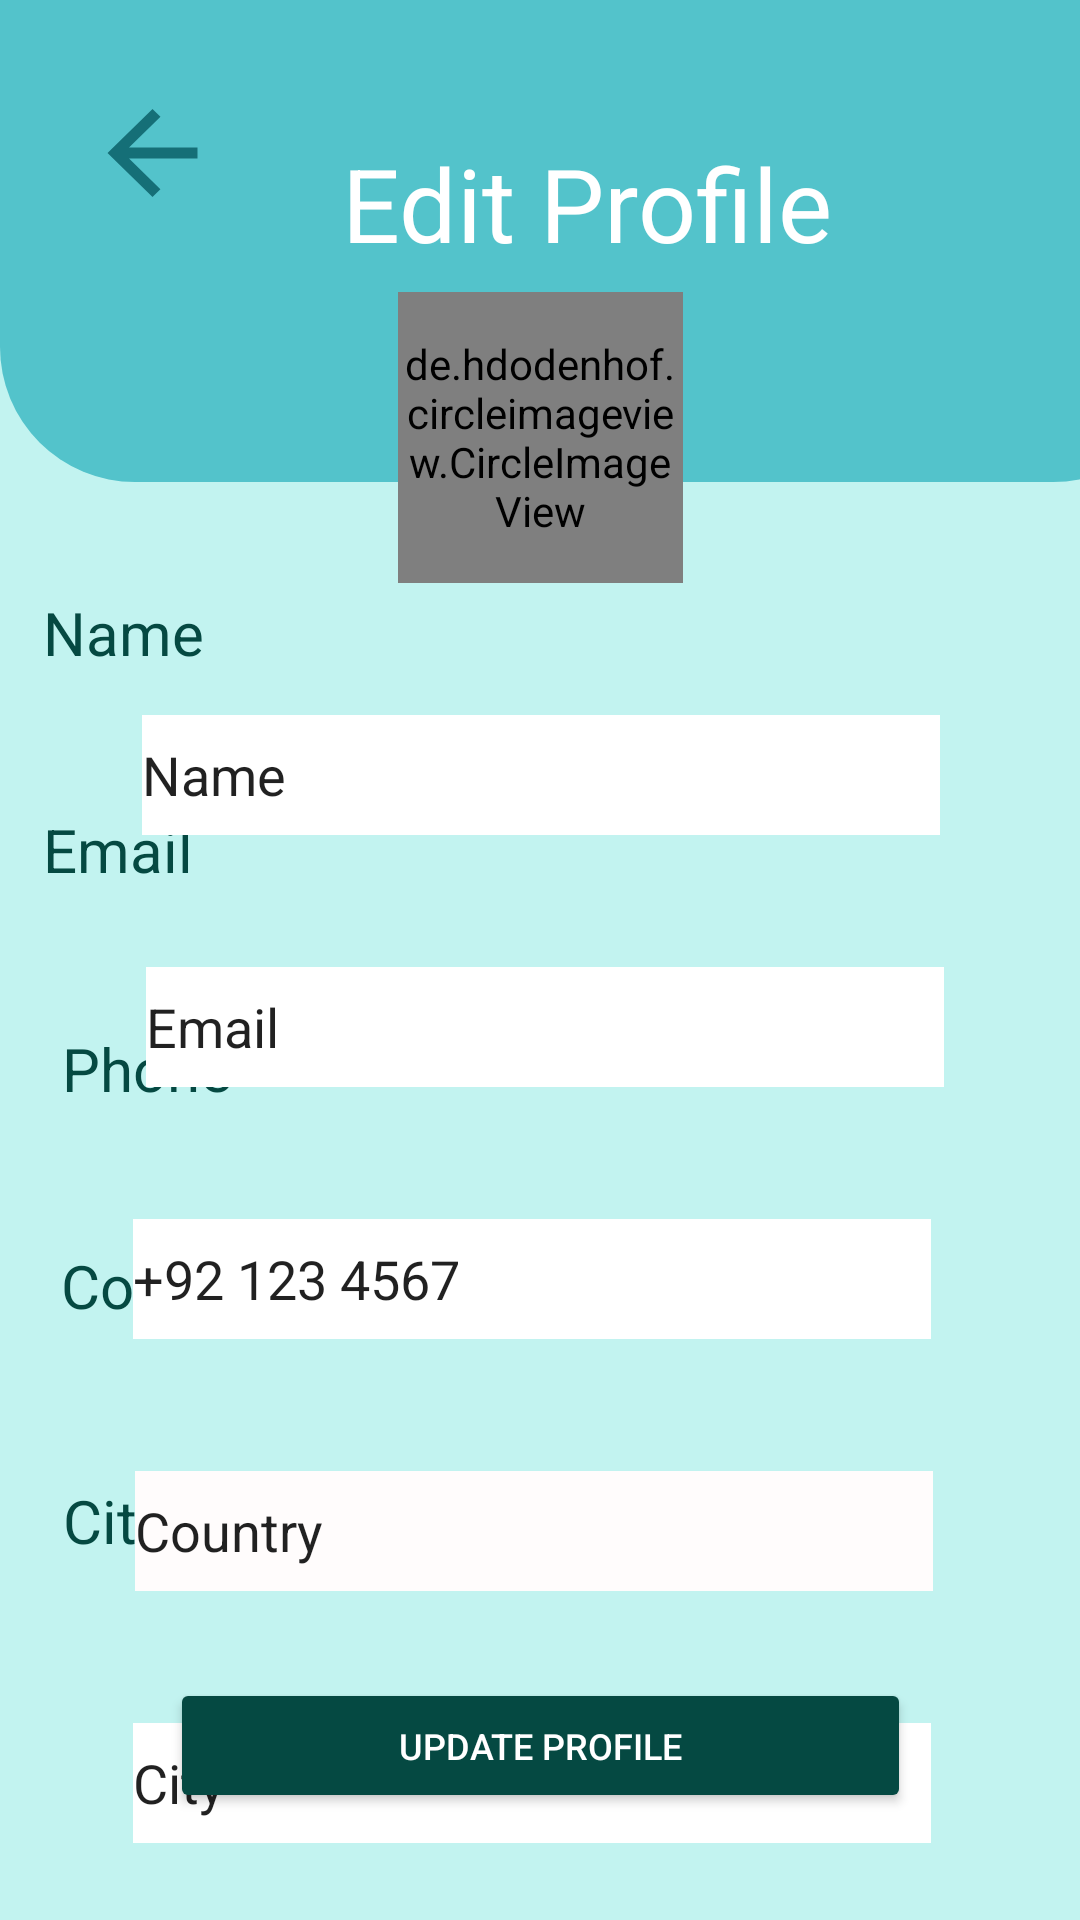

Locate icon controls on the screen. Image size 1080 x 1920, boxes as rect(x1, y1, x2, y2).
backarrow: rect(108, 109, 198, 197)
